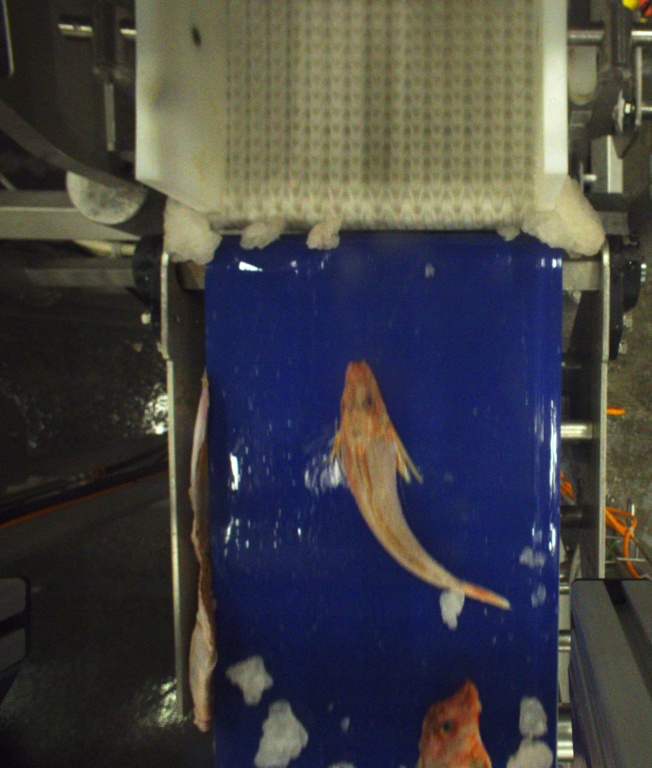GUU: (402, 675, 495, 768)
